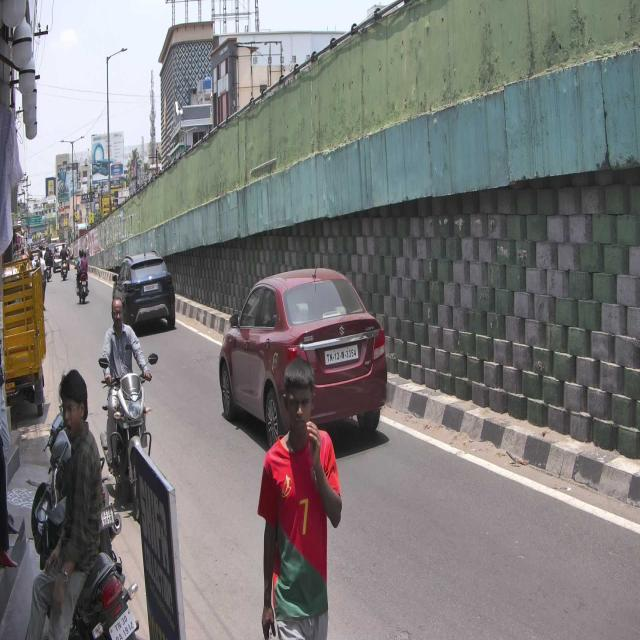single_rider: (97, 293, 153, 512)
